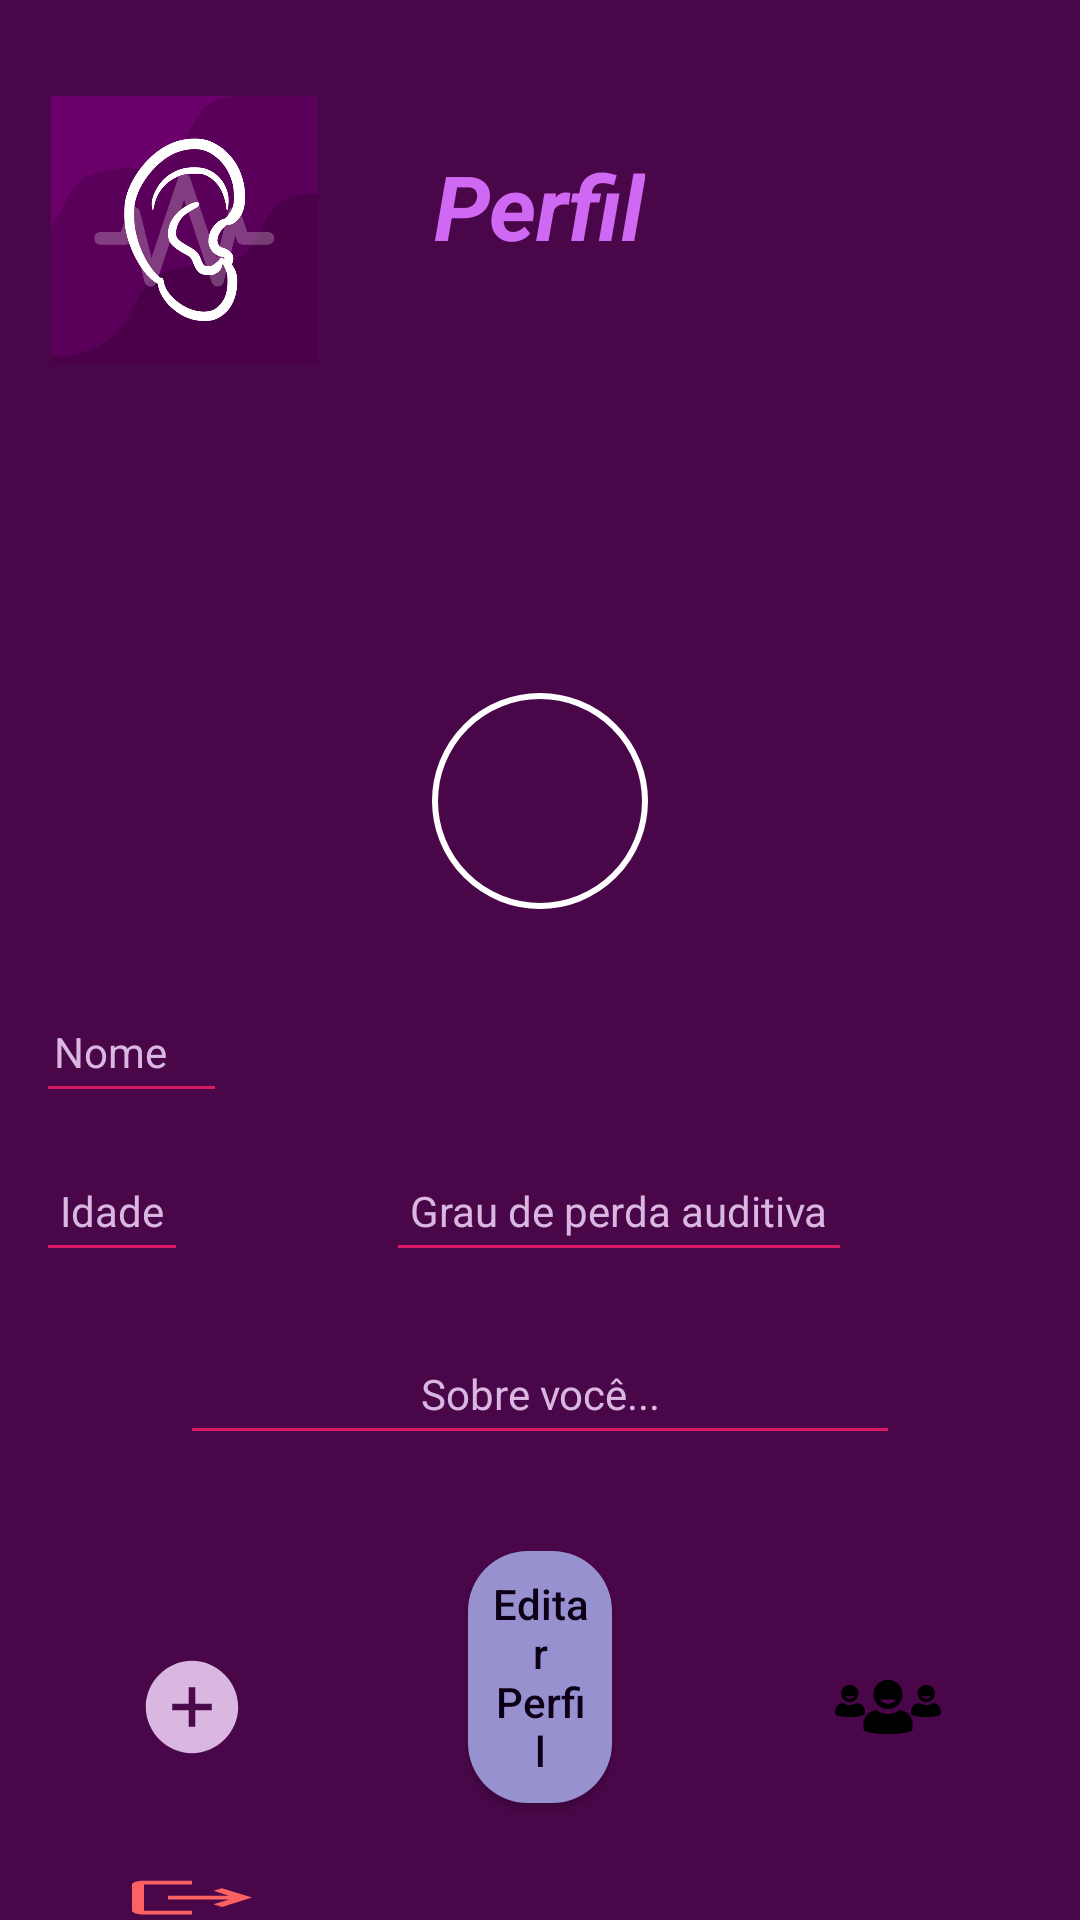

Named icons in this screenshot (1080w x 1920h) and their bounding boxes, {"x1": x1, "y1": y1, "x2": x2, "y2": y2}:
Botão de comunidade: {"x1": 835, "y1": 1680, "x2": 941, "y2": 1734}
Botão para adicionar amigos: {"x1": 145, "y1": 1660, "x2": 239, "y2": 1754}
Ícone do aplicativo, uma orelha: {"x1": 51, "y1": 96, "x2": 318, "y2": 356}
